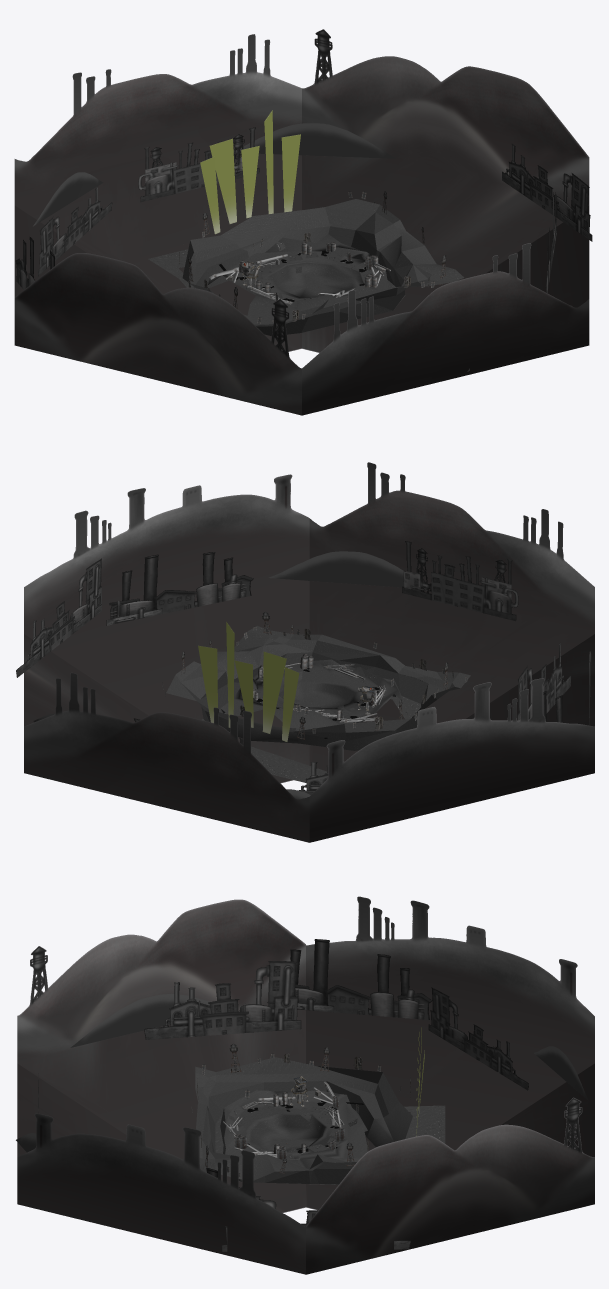
File: MenuTerrain.fbx
3 views of the same model, one above another, from view 1: azimuth 30°, elevation 25°; view 2: azimuth 150°, elevation 25°; view 3: azimuth 270°, elevation 25° (orthographic).
Parts seen in each view (by area): view 1: hills4, hills3, hills1, hills6, polySurface82, polySurface81, hills5, Buildings7, Buildings2, Hill3, Buildings5, hills2 (+9 smaller); view 2: hills5, hills6, hills2, hills3, polySurface82, polySurface81, Buildings4, Buildings3, hills4, hills1, Hill4, Buildings7 (+7 smaller); view 3: hills1, hills2, hills4, hills5, polySurface82, polySurface81, Buildings1, Buildings6, hills6, hills3, Buildings5, Hill2 (+3 smaller).
Part boxes in pixels (box(x1,y1,x2,y2)): hills4: box(302, 29, 589, 352); hills3: box(14, 34, 301, 351); hills1: box(14, 253, 301, 415); hills6: box(302, 243, 589, 415); polySurface82: box(182, 199, 464, 335); polySurface81: box(208, 234, 388, 323); hills5: box(485, 205, 589, 307); Buildings7: box(502, 144, 592, 241); Buildings2: box(138, 127, 259, 202); Hill3: box(233, 123, 395, 158); Buildings5: box(38, 186, 112, 276); hills2: box(14, 205, 86, 296); hills5: box(24, 474, 309, 783); hills6: box(309, 462, 594, 771); hills2: box(309, 678, 594, 842); hills3: box(24, 672, 309, 842); polySurface82: box(166, 626, 470, 750); polySurface81: box(220, 659, 406, 729); Buildings4: box(402, 541, 518, 621); Buildings3: box(106, 552, 253, 625); hills4: box(24, 634, 148, 726); hills1: box(466, 634, 594, 726); Hill4: box(268, 551, 427, 589); Buildings7: box(16, 558, 101, 677); hills1: box(17, 899, 305, 1212); hills2: box(306, 896, 594, 1210); hills4: box(306, 1097, 594, 1274); hills5: box(17, 1113, 305, 1274); polySurface82: box(195, 1057, 412, 1184); polySurface81: box(220, 1090, 368, 1168); Buildings1: box(144, 961, 301, 1039); Buildings6: box(290, 939, 432, 1019); hills6: box(17, 1063, 126, 1156); hills3: box(501, 1063, 594, 1156); Buildings5: box(428, 987, 528, 1090); Hill2: box(70, 993, 209, 1047).
Size of what is drawn, in the model's own units: 1129 by 411 by 983.
Materials: 34 (33 with a texture image).
